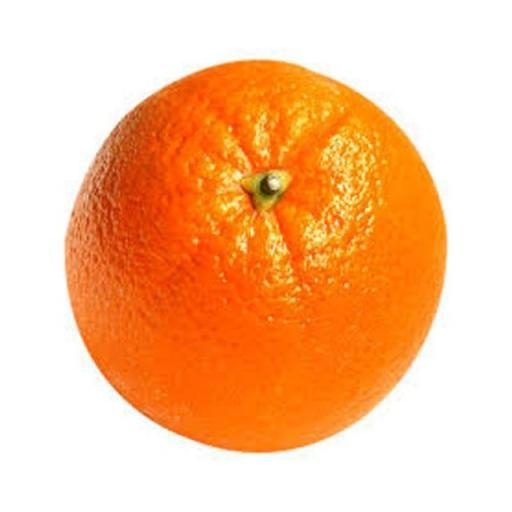fruit: (67, 62, 445, 451)
